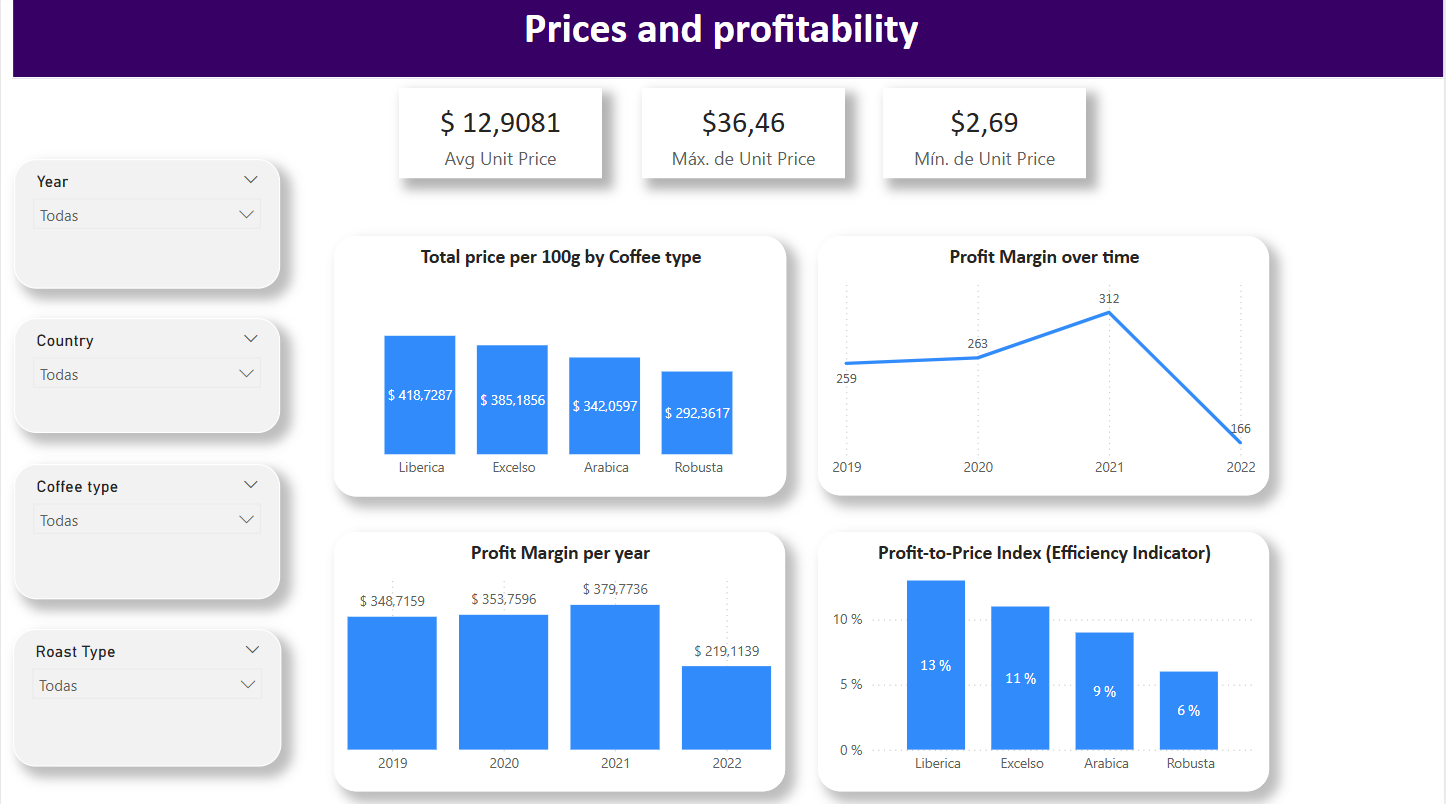

The dashboard page shown, as its layout file describes it:
{"tool":"powerbi","page":{"name":" Página 4","canvas":[1280,720],"ordinal":3},"visuals":[{"type":"shape","box":[10,0,1270,72.8],"z":0},{"type":"textbox","box":[256.7,0,836.3,73.2],"z":1000},{"type":"clusteredColumnChart","title":"Profit Margin per year","fields":{"Category":["Calendario.Year"],"Y":["Sum(Combinar2.Profit)"]},"box":[295,475.1,399.6,230],"z":2000},{"type":"clusteredColumnChart","title":"Profit-to-Price Index (Efficiency Indicator)\n","fields":{"Category":["Combinar2.Coffee Type"],"Y":["Avg(Combinar2.Index)"]},"box":[724.8,475.1,399.6,230],"z":3000},{"type":"lineChart","title":"Profit Margin over time","fields":{"Y":["Sum(Combinar2.Profit Margin (relative profit per product))"],"Category":["Calendario.Year"]},"box":[724.8,212.6,399.6,230],"z":4000},{"type":"group","id":"g1","title":"Grupo 1","box":[353.1,81.3,180,80.1],"z":6000},{"type":"group","id":"g2","title":"Grupo 1","box":[568,81.3,180,80.1],"z":7000},{"type":"group","id":"g3","title":"Grupo 1","box":[781.7,81.3,180,80.1],"z":8000},{"type":"card","fields":{"Values":["Avg(Combinar2.Unit Price)"]},"box":[353.1,81.3,180,80],"z":9000,"group":"g1"},{"type":"card","fields":{"Values":["Max(Data_products 33.Unit Price)"]},"box":[568,81.3,180,80],"z":9000,"group":"g2"},{"type":"card","fields":{"Values":["Min(Data_products 33.Unit Price)"]},"box":[781.7,81.3,180,80],"z":9000,"group":"g3"},{"type":"slicer","fields":{"Values":["Calendario.Year"]},"box":[11.9,144.2,235.8,115],"z":9000},{"type":"slicer","fields":{"Values":["Combinar2.Country"]},"box":[11.9,285.8,235.8,102.2],"z":10000},{"type":"slicer","fields":{"Values":["Data_products 33.Coffee type"]},"box":[11.9,414.7,235.8,119.6],"z":11000},{"type":"slicer","fields":{"Values":["Combinar2.Roast Type"]},"box":[10.7,561,238.1,122],"z":12000},{"type":"clusteredColumnChart","title":"Total price per 100g by Coffee type","fields":{"Category":["Combinar2.Coffee Type"],"Y":["Sum(Combinar2.Price per 100g)"]},"box":[295.3,212.8,400.8,230.5],"z":12001}]}

Visuals, with their boxes in screenshot pixels (x1, y1, x2, y2), scaled from the page's 1280x720 canvas onto the 1446x804 screenshot:
shape: rect(11, 0, 1445, 81)
textbox: rect(290, 0, 1235, 82)
"Profit Margin per year" clusteredColumnChart: rect(333, 531, 785, 787)
"Profit-to-Price Index (Efficiency Indicator)
" clusteredColumnChart: rect(819, 531, 1270, 787)
"Profit Margin over time" lineChart: rect(819, 237, 1270, 494)
"Grupo 1" group: rect(399, 91, 602, 180)
"Grupo 1" group: rect(642, 91, 845, 180)
"Grupo 1" group: rect(883, 91, 1086, 180)
card - Avg(Combinar2.Unit Price): rect(399, 91, 602, 180)
card - Max(Data_products 33.Unit Price): rect(642, 91, 845, 180)
card - Min(Data_products 33.Unit Price): rect(883, 91, 1086, 180)
slicer - Calendario.Year: rect(13, 161, 280, 289)
slicer - Combinar2.Country: rect(13, 319, 280, 433)
slicer - Data_products 33.Coffee type: rect(13, 463, 280, 597)
slicer - Combinar2.Roast Type: rect(12, 626, 281, 763)
"Total price per 100g by Coffee type" clusteredColumnChart: rect(334, 238, 786, 495)
